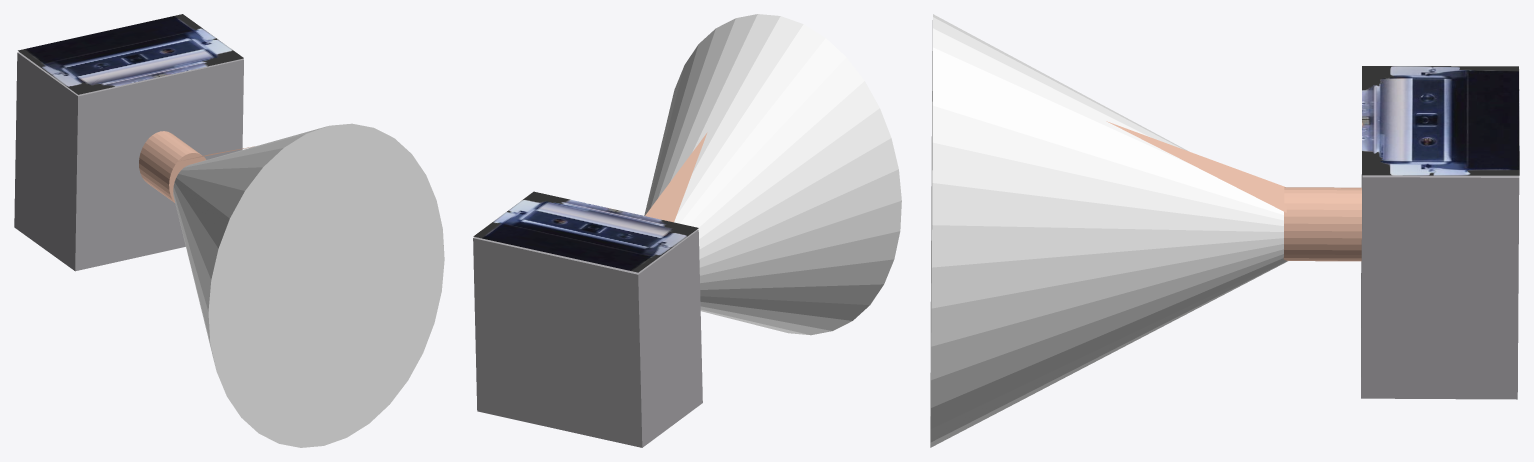
Rendered from elecineman.gltf.
3 renders of one model, left to right at view 1: azimuth 30°, elevation 25°; view 2: azimuth 150°, elevation 25°; view 3: azimuth 270°, elevation 25°, orthographic. The views are drawn at different scales.
Parts seen in each view (by area): view 1: Cone, Cube, Plane.001, Cylinder; view 2: Cone, Cube, Plane.001, Plane; view 3: Cone, Cube, Plane.001, Cylinder, Plane.
Part boxes in pixels (x1,y1,x2,y2): Cone: [173, 123, 444, 447]; Cube: [14, 52, 243, 271]; Plane.001: [18, 14, 243, 94]; Cylinder: [139, 131, 206, 202]; Cone: [644, 14, 901, 335]; Cube: [473, 229, 702, 447]; Plane.001: [473, 191, 698, 272]; Plane: [645, 132, 707, 222]; Cone: [930, 14, 1287, 447]; Cube: [1361, 69, 1519, 399]; Plane.001: [1362, 66, 1519, 175]; Cylinder: [1283, 187, 1361, 261]; Plane: [1106, 121, 1286, 212].
Bounding box in the file's own units: 2.85 × 3.66 × 4.77.
Materials: 4 (1 with a texture image).
